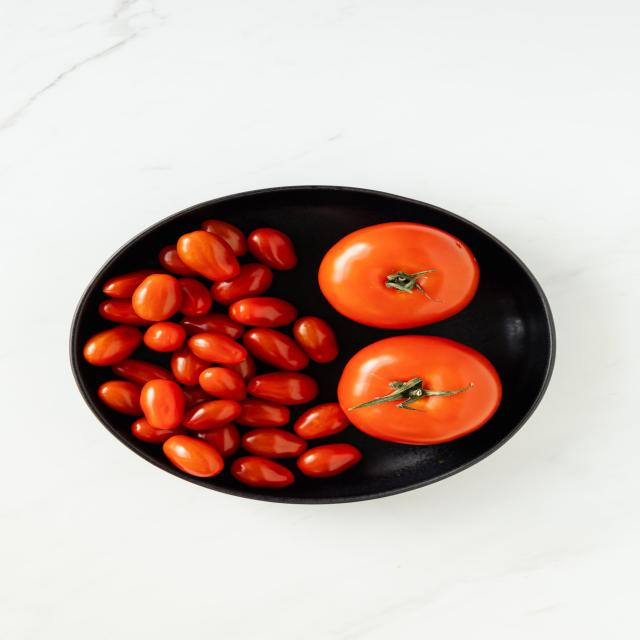Tomato: (329, 337, 507, 445), (341, 234, 482, 328)
